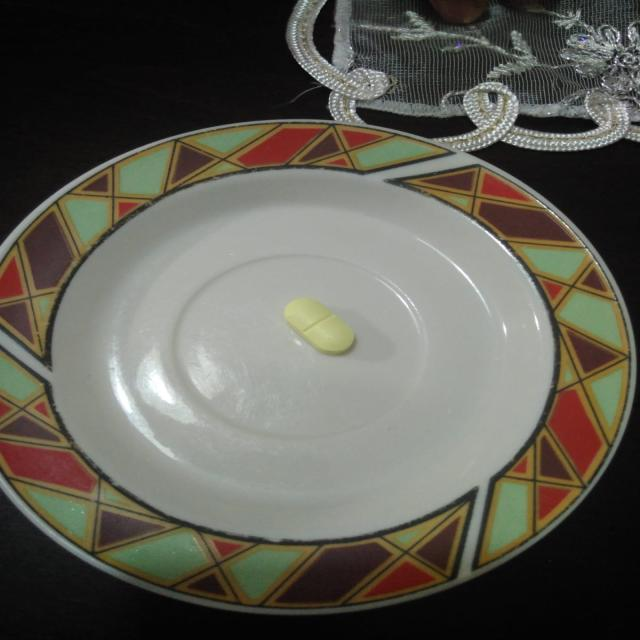pills: (276, 284, 366, 366)
